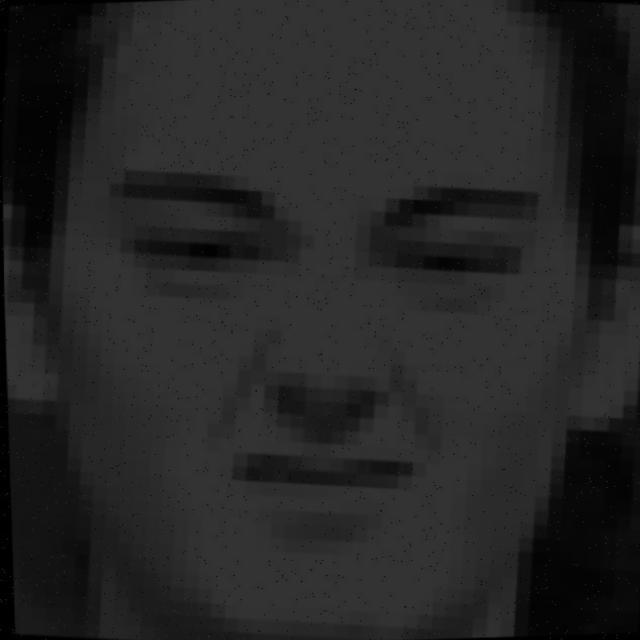Disgust: (33, 76, 640, 569)
